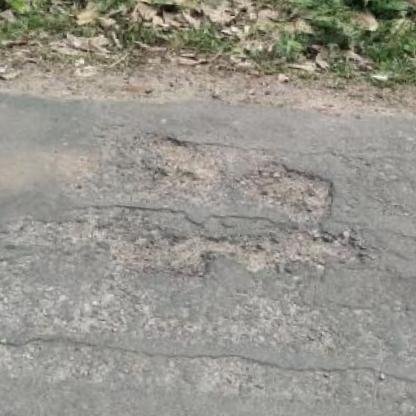pothole: (89, 125, 381, 302)
